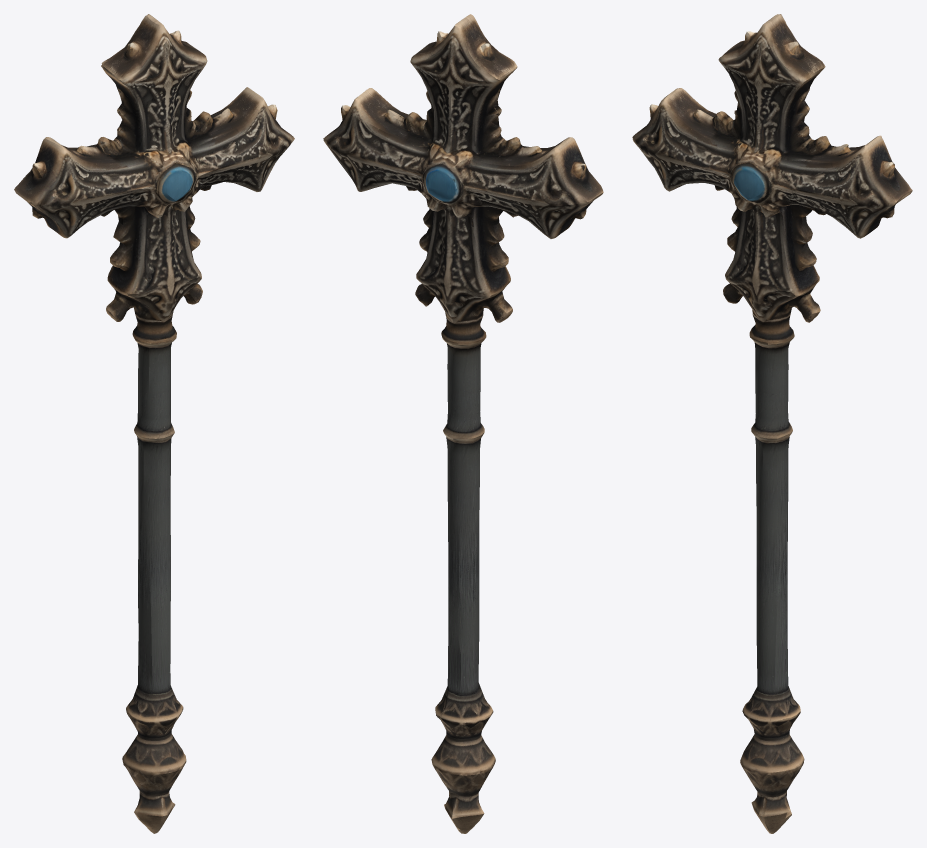
The model's file is Meshy_AI_Nightforge_Cross_0617221242_texture.glb.
3 views of the same model, side by side, from view 1: azimuth 30°, elevation 25°; view 2: azimuth 150°, elevation 25°; view 3: azimuth 330°, elevation 25° (orthographic).
Visible parts, largest first — view 1: Mesh0; view 2: Mesh0; view 3: Mesh0.
Part boxes in pixels (x1,y1,x2,y2): Mesh0: (14,14,294,833); Mesh0: (323,14,603,833); Mesh0: (632,14,912,833).
Size of the model in its own units: 0.6493 by 1.91 by 0.2012.
1 material, 1 textured.
